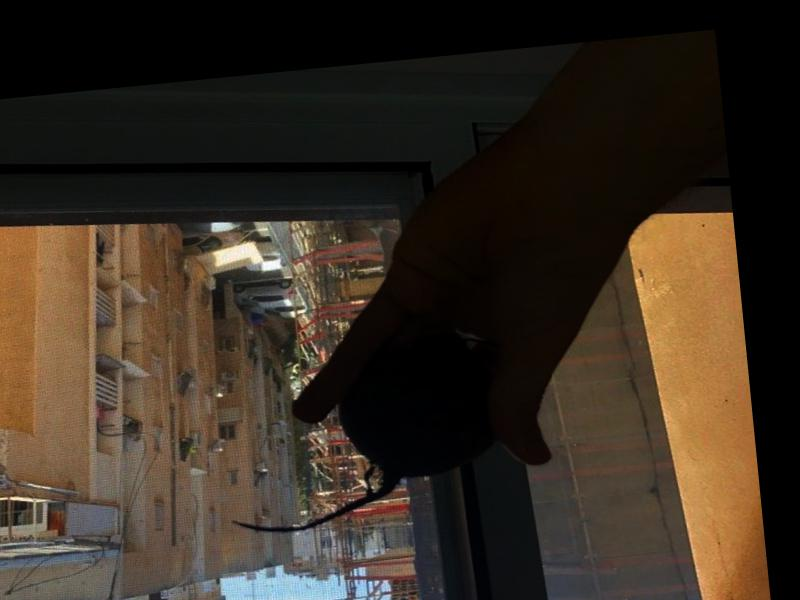Beet: (215, 330, 501, 539)
